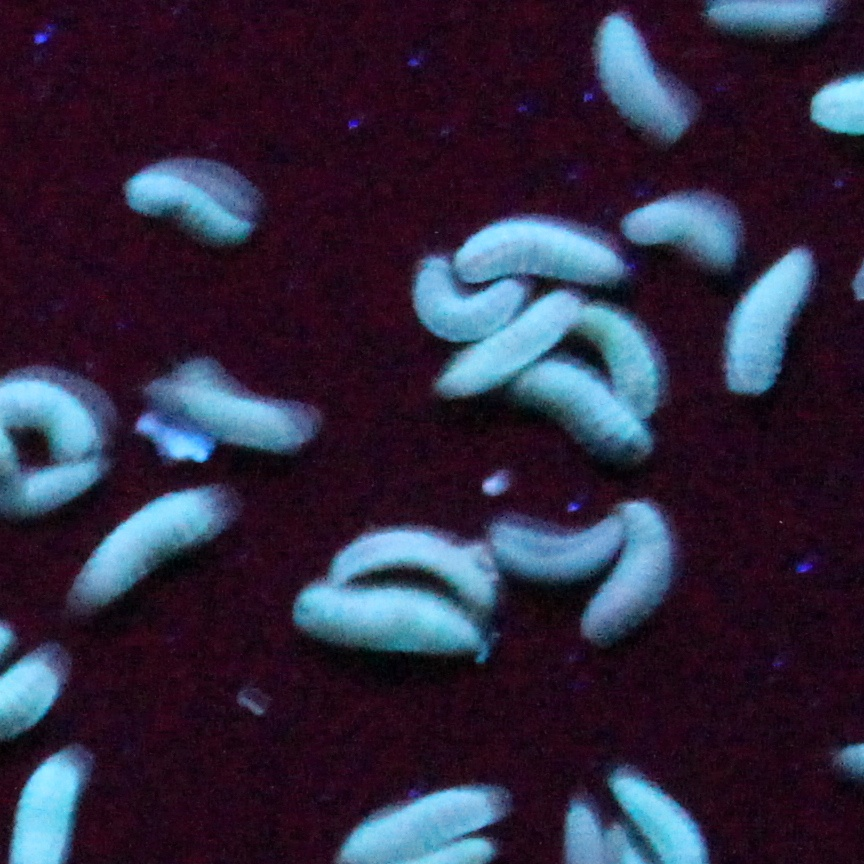larve: (77, 489, 213, 599), (441, 291, 579, 393), (293, 584, 481, 655), (724, 248, 811, 394), (331, 531, 491, 607), (586, 504, 668, 638), (596, 15, 686, 137), (519, 364, 648, 445), (457, 222, 624, 284), (575, 305, 658, 415), (416, 263, 524, 339), (176, 384, 297, 450), (126, 174, 250, 238), (491, 517, 626, 574), (625, 199, 734, 263), (2, 460, 99, 509)
